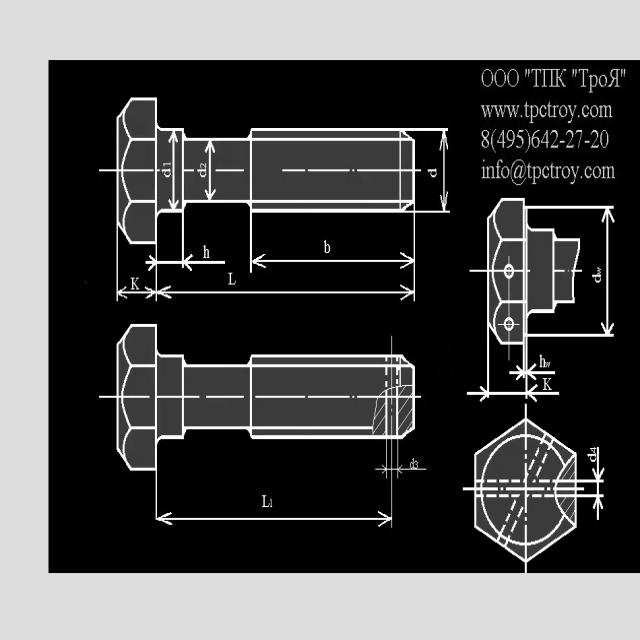marking_line: (152, 246, 419, 302), (154, 471, 394, 529), (248, 213, 415, 274), (467, 345, 559, 404), (580, 204, 615, 338), (415, 126, 449, 215), (114, 245, 159, 303), (145, 245, 228, 270), (376, 441, 429, 480), (578, 445, 604, 523), (507, 344, 558, 382), (169, 130, 179, 209), (204, 141, 216, 199)
numeric: (590, 128, 600, 149), (550, 129, 561, 148), (505, 129, 515, 149), (600, 129, 610, 149), (480, 129, 489, 150), (565, 128, 574, 148), (532, 127, 540, 149), (576, 127, 584, 149), (497, 129, 505, 149), (516, 129, 524, 149), (227, 271, 237, 286), (541, 130, 549, 148), (543, 377, 553, 391), (130, 275, 139, 290), (202, 244, 211, 259), (322, 239, 330, 254), (262, 494, 270, 508), (161, 168, 171, 179), (591, 273, 602, 283), (197, 168, 207, 178), (540, 354, 547, 368), (428, 168, 437, 178), (587, 454, 596, 462), (199, 162, 207, 169), (410, 457, 415, 468), (597, 265, 602, 275), (162, 161, 171, 166), (269, 498, 273, 509), (545, 362, 551, 368), (590, 447, 596, 453), (414, 461, 418, 468)
